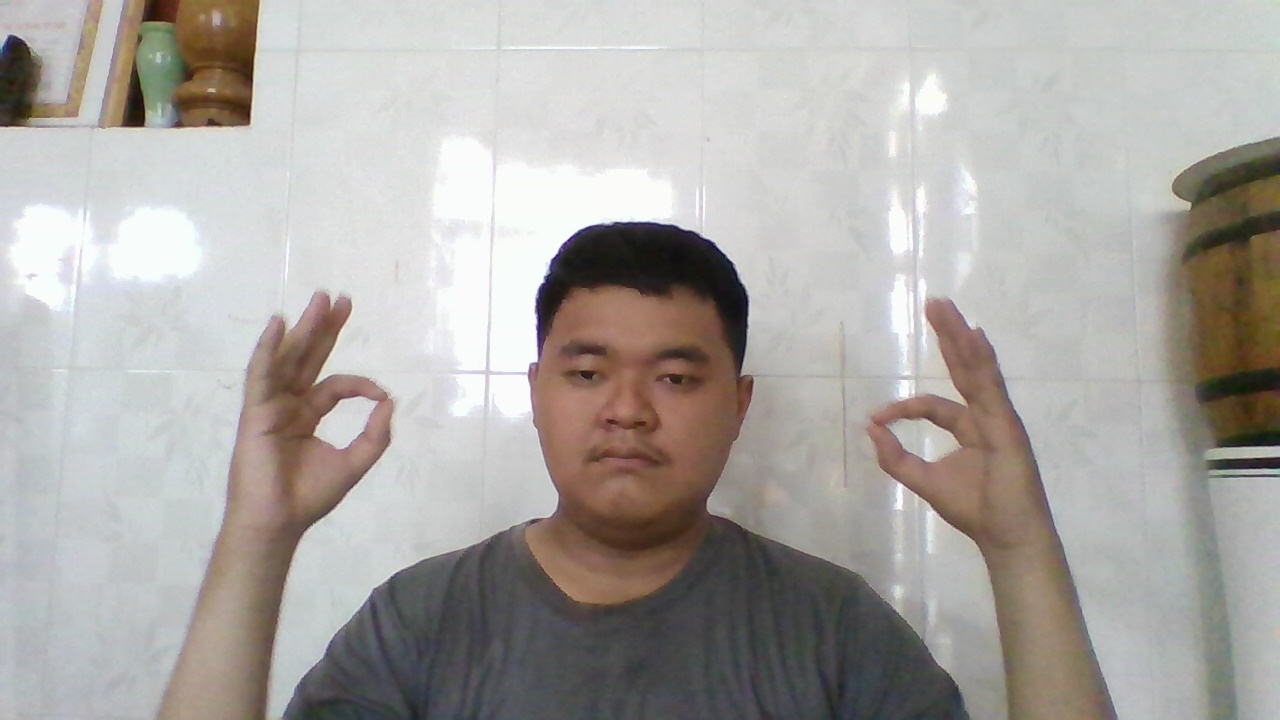T: (859, 289, 1021, 556), (241, 285, 402, 540)
